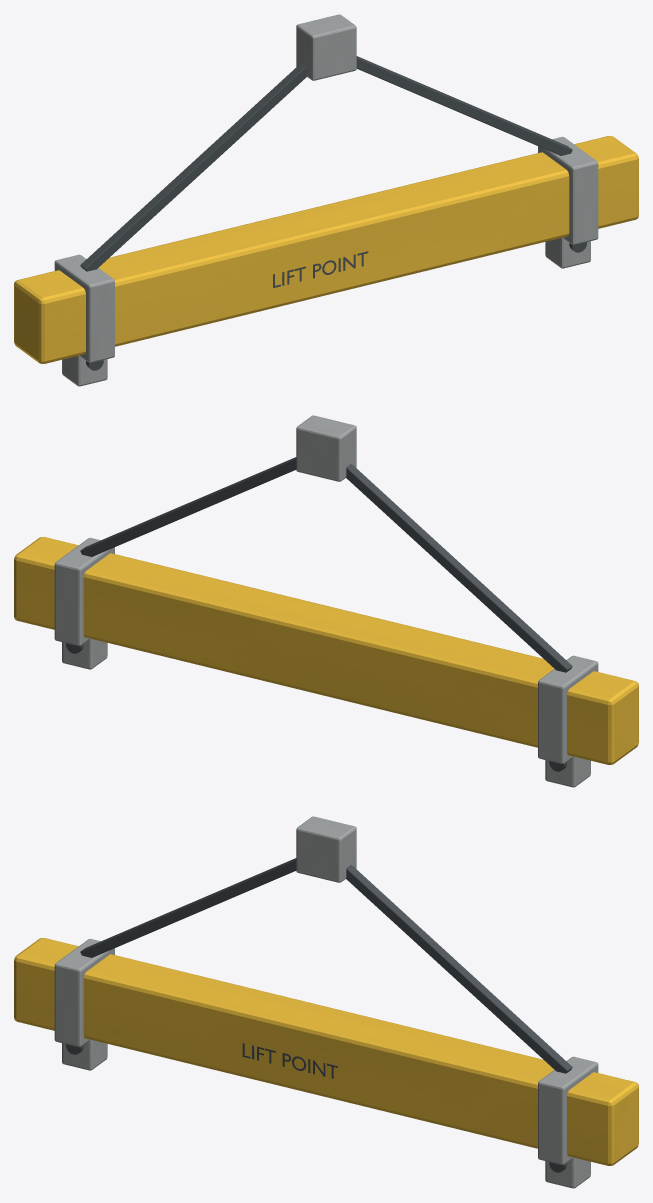
The model's file is lifting_spreader.glb.
3 renders of one model, top to bottom at view 1: azimuth 30°, elevation 25°; view 2: azimuth 150°, elevation 25°; view 3: azimuth 330°, elevation 25°, orthographic.
Parts seen in each view (by area): view 1: MainBeam, SuspensionSling, LiftingEye, EndPlate, EndPlate.001, SuspensionSling.001, LowerShackle, LowerShackle.001, LABEL_LIFT_POINT; view 2: MainBeam, SuspensionSling, LiftingEye, EndPlate, EndPlate.001, SuspensionSling.001, LowerShackle, LowerShackle.001; view 3: MainBeam, SuspensionSling.001, LiftingEye, EndPlate.001, EndPlate, SuspensionSling, LowerShackle.001, LowerShackle, LABEL_LIFT_POINT.
Boxes of the visible parts, bbox=[...] form: MainBeam: bbox=[14, 136, 638, 363]; SuspensionSling: bbox=[80, 62, 306, 271]; LiftingEye: bbox=[296, 14, 356, 80]; EndPlate: bbox=[54, 254, 114, 362]; EndPlate.001: bbox=[538, 136, 598, 245]; SuspensionSling.001: bbox=[356, 56, 572, 155]; LowerShackle: bbox=[62, 355, 107, 386]; LowerShackle.001: bbox=[545, 237, 590, 268]; LABEL_LIFT_POINT: bbox=[273, 251, 368, 288]; MainBeam: bbox=[14, 537, 638, 764]; SuspensionSling: bbox=[346, 463, 572, 672]; LiftingEye: bbox=[296, 415, 356, 481]; EndPlate: bbox=[538, 655, 598, 763]; EndPlate.001: bbox=[54, 537, 114, 646]; SuspensionSling.001: bbox=[80, 457, 296, 556]; LowerShackle: bbox=[545, 756, 590, 787]; LowerShackle.001: bbox=[62, 638, 107, 669]; MainBeam: bbox=[14, 938, 638, 1165]; SuspensionSling.001: bbox=[346, 864, 572, 1073]; LiftingEye: bbox=[296, 816, 356, 882]; EndPlate.001: bbox=[538, 1056, 598, 1164]; EndPlate: bbox=[54, 938, 114, 1047]; SuspensionSling: bbox=[80, 858, 296, 957]; LowerShackle.001: bbox=[545, 1157, 590, 1188]; LowerShackle: bbox=[62, 1039, 107, 1070]; LABEL_LIFT_POINT: bbox=[242, 1043, 337, 1078].
Size of the model in its own units: 3.6 by 1.68 by 0.37.
Materials: 3 (2 with a texture image).
